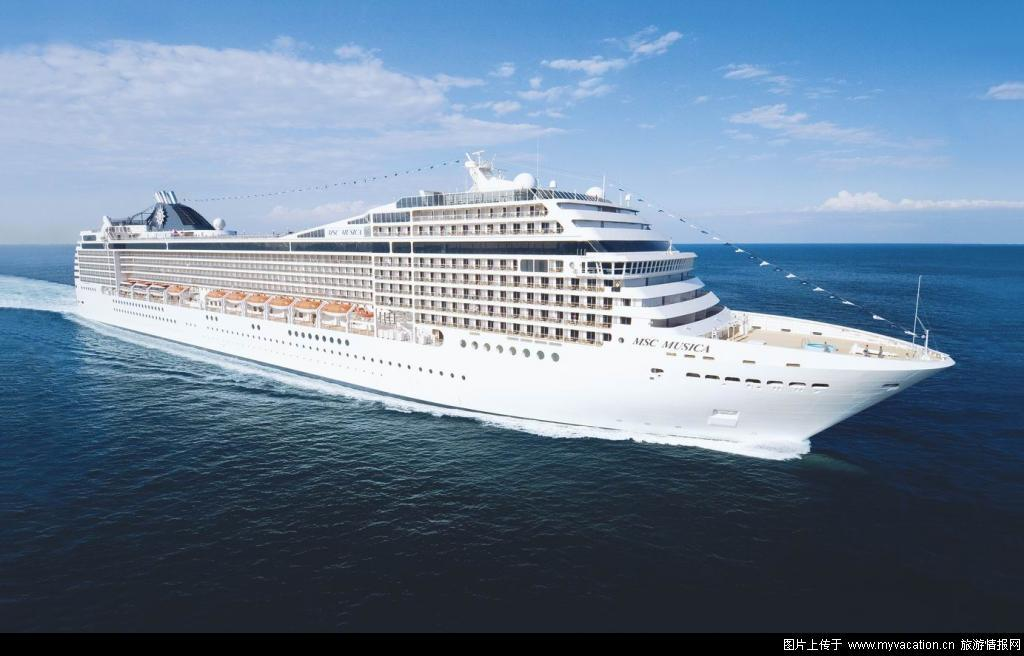youlun: (72, 147, 957, 459)
